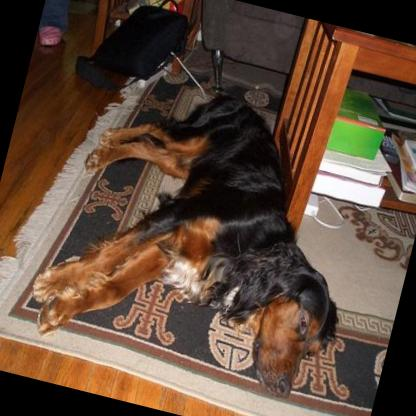Gordon_setter: (21, 49, 391, 402)
